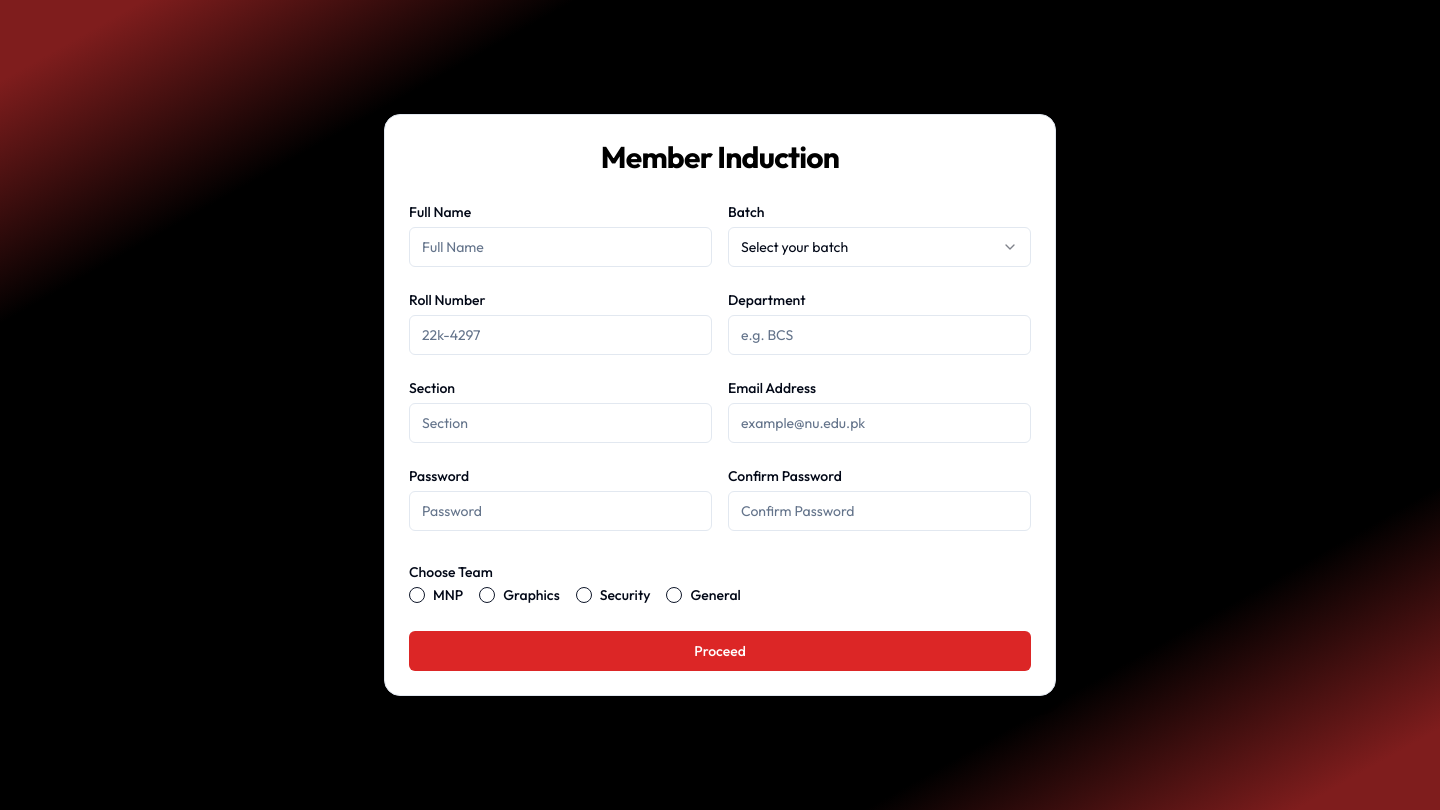
Test case: Register Form Validation › should show error when name field is empty
Click the button "Proceed": (720, 651) [409,631,1031,671]
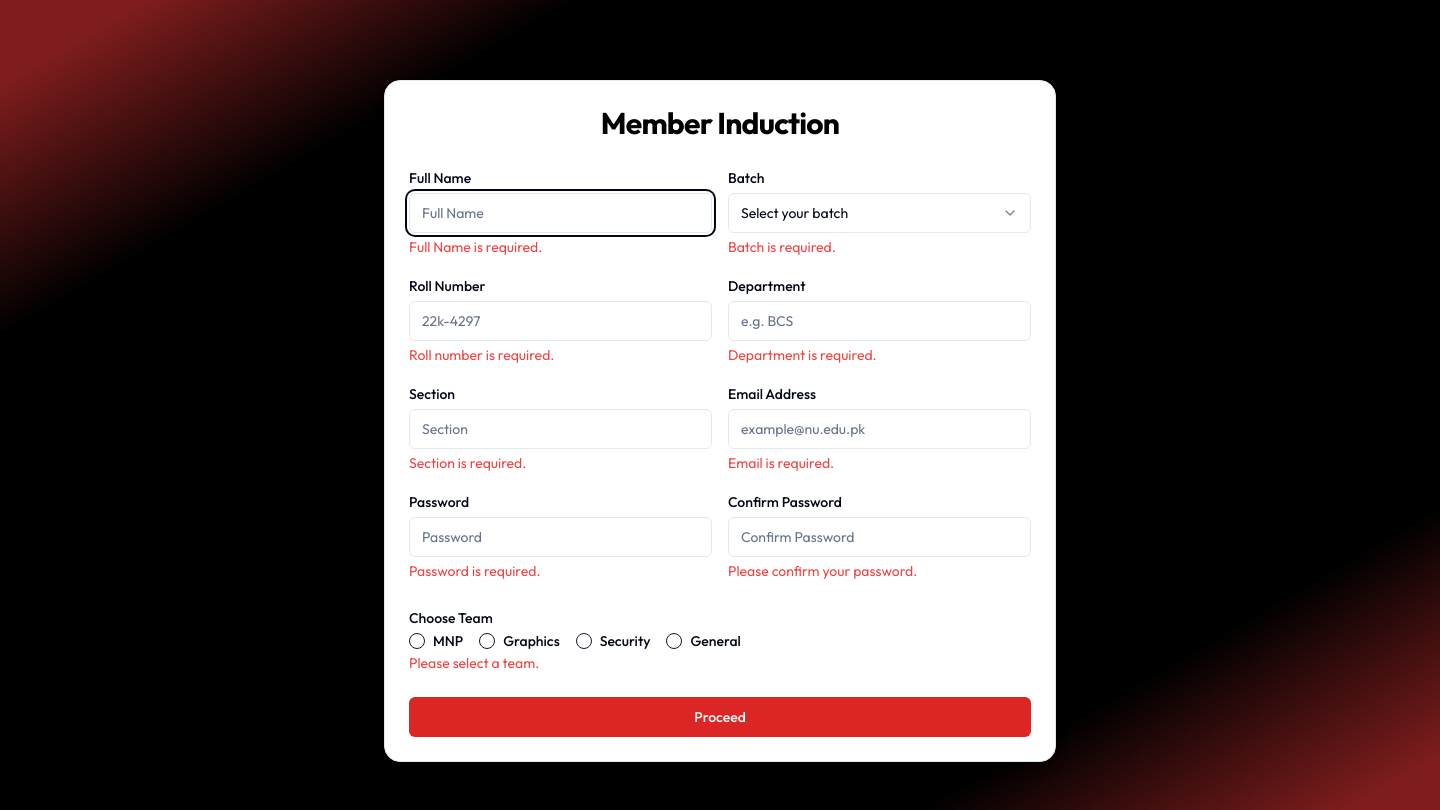
expect the text "Full Name is required." is shown: met, box [409,238,542,256]
